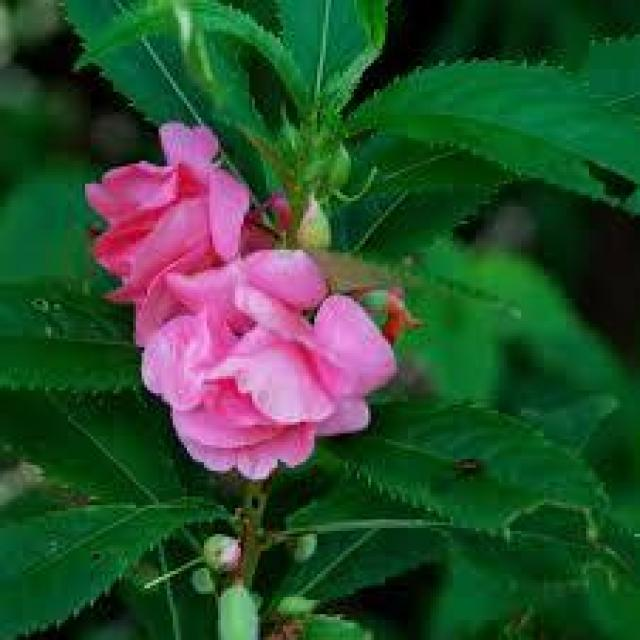organic waste: (116, 227, 416, 468)
